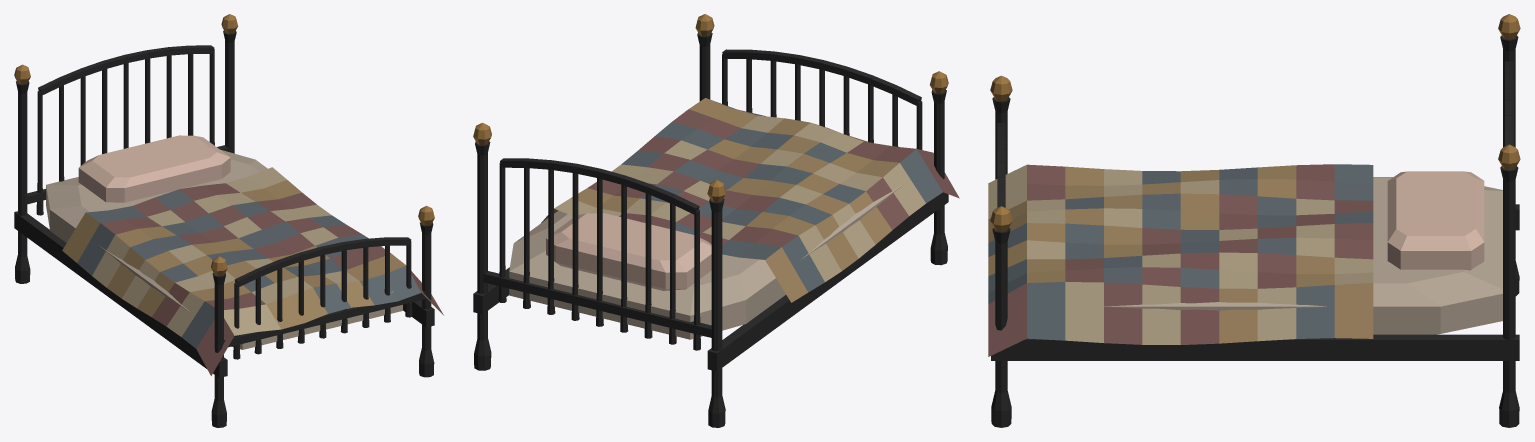
The model's file is room04_iron_bed.glb.
3 renders of one model, left to right at view 1: azimuth 30°, elevation 25°; view 2: azimuth 150°, elevation 25°; view 3: azimuth 270°, elevation 25°, orthographic. The views are drawn at different scales.
Parts seen in each view (by area): view 1: room04_iron_bed; view 2: room04_iron_bed; view 3: room04_iron_bed.
Part boxes in pixels (x1=…): room04_iron_bed: x1=14, y1=14, x2=443, y2=427; room04_iron_bed: x1=473, y1=14, x2=959, y2=427; room04_iron_bed: x1=988, y1=14, x2=1520, y2=427.
Bounding box in the file's own units: 1.33 × 1.18 × 2.03.
